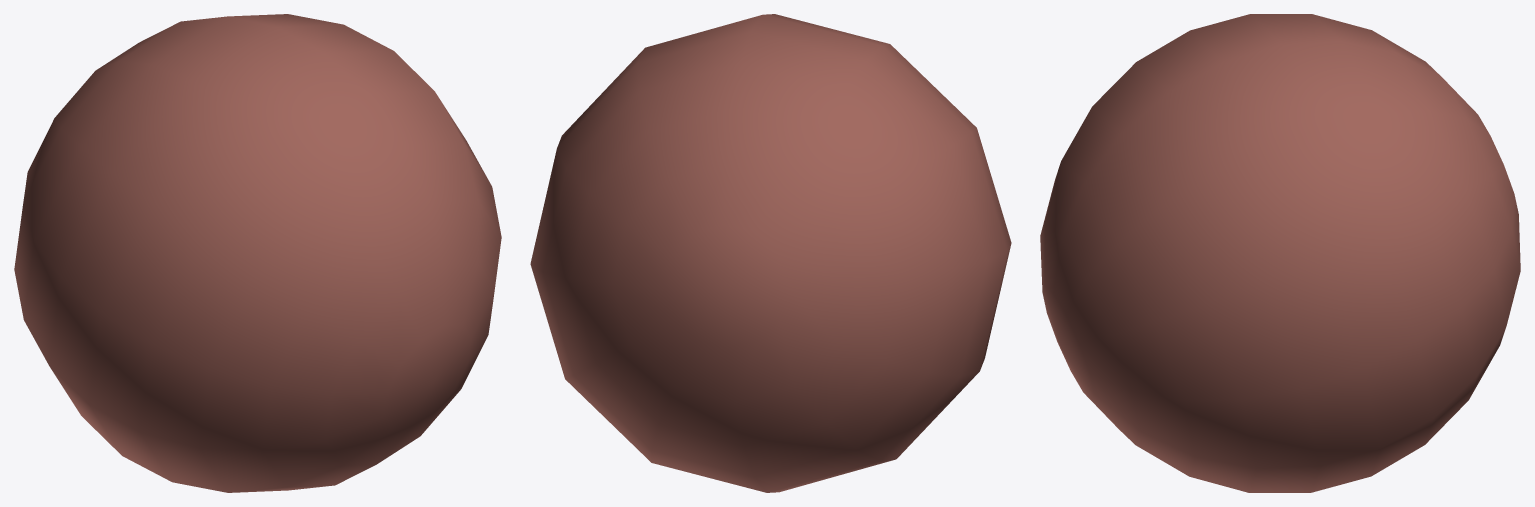
File: mixamo_humanoid_joint_leftHandIndex3.fbx
3 renders of one model, left to right at view 1: azimuth 30°, elevation 25°; view 2: azimuth 150°, elevation 25°; view 3: azimuth 270°, elevation 25°, orthographic.
Parts seen in each view (by area): view 1: joint_LeftHandIndex2; view 2: joint_LeftHandIndex2; view 3: joint_LeftHandIndex2.
Boxes of the visible parts, bbox=[...] form: joint_LeftHandIndex2: bbox=[14, 14, 501, 492]; joint_LeftHandIndex2: bbox=[530, 14, 1011, 492]; joint_LeftHandIndex2: bbox=[1040, 14, 1520, 492].
Size of the model in its own units: 1.95 by 1.98 by 1.98.
